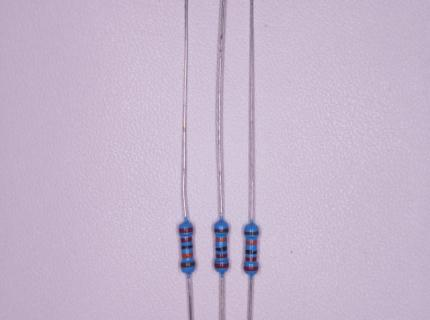Black band: (216, 246, 227, 252), (181, 244, 193, 249), (246, 250, 257, 254)
Brown band: (180, 262, 195, 268), (214, 228, 229, 233), (244, 231, 259, 235)
Orange band: (182, 252, 193, 258), (216, 237, 227, 243), (245, 240, 257, 245)
Red band: (243, 266, 259, 272), (178, 227, 193, 233), (214, 263, 228, 268), (181, 236, 192, 242), (245, 257, 257, 261), (216, 254, 227, 258)
